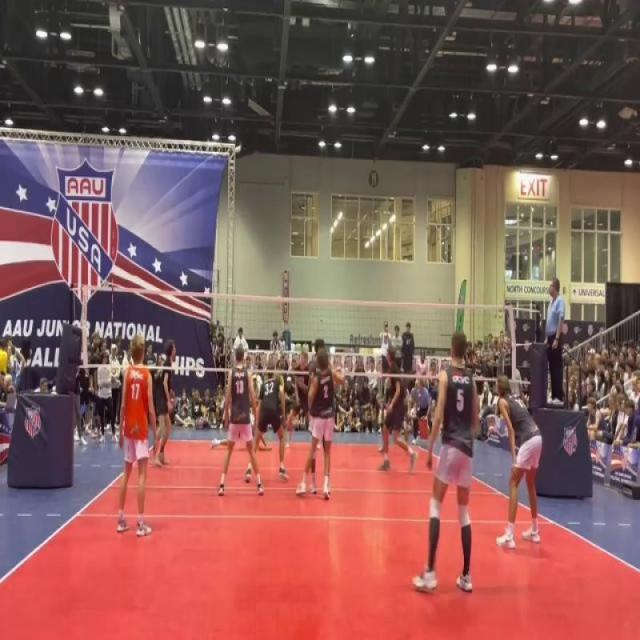volleyball: (272, 290, 281, 316)
